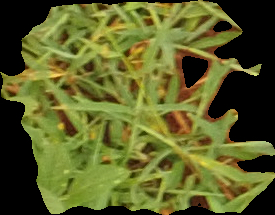grass: (1, 1, 274, 214)
